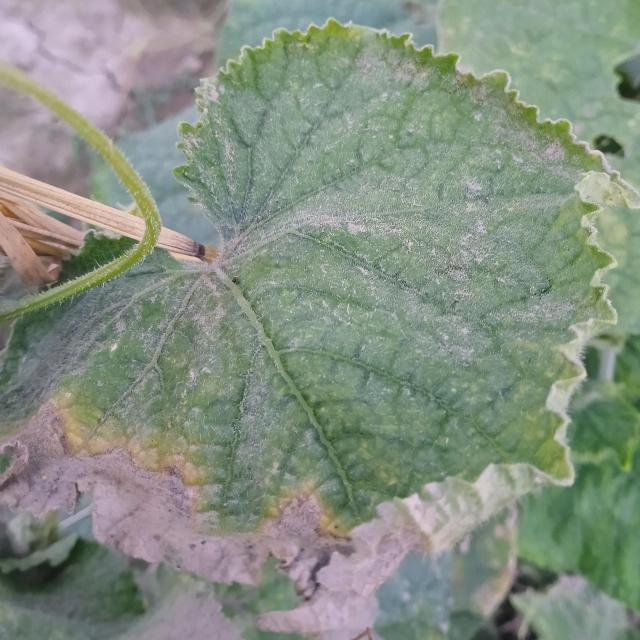cucumber_gummy: (0, 16, 640, 609)
